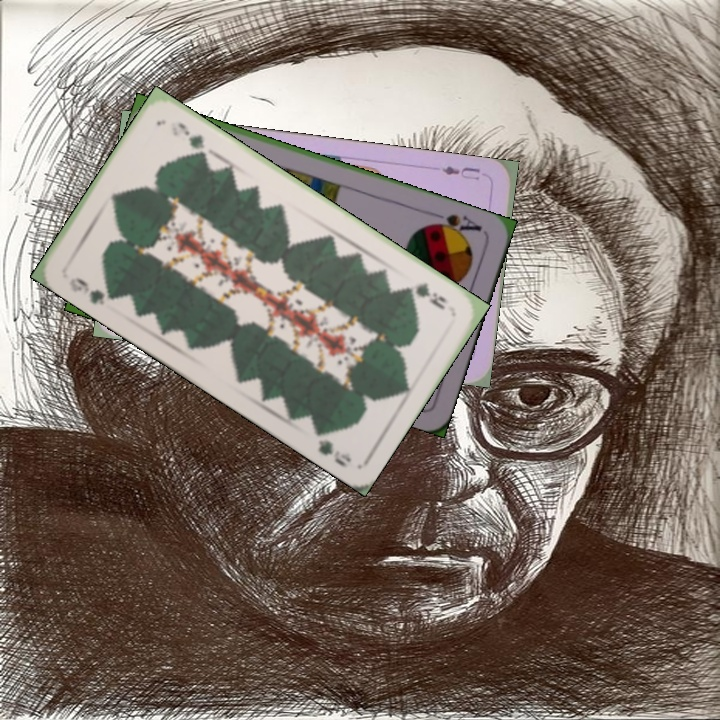EU: (438, 162, 483, 183)
G9: (65, 273, 118, 308), (402, 278, 449, 313)
SA: (425, 210, 485, 240)
